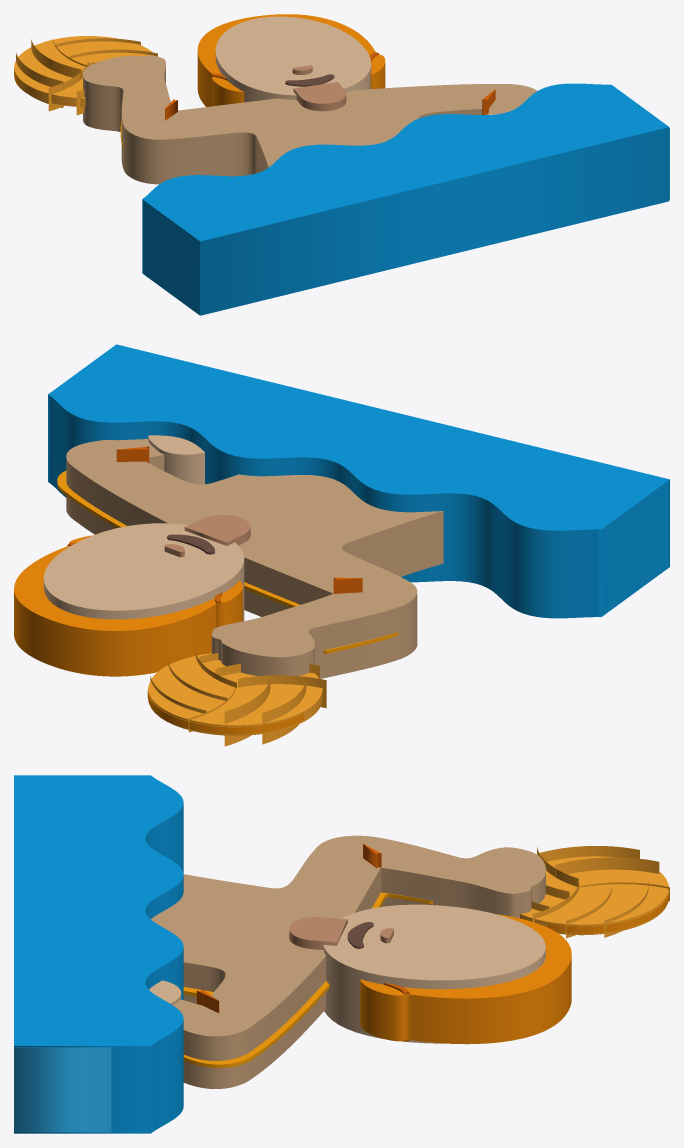
File: emoji_u1f93d_1f3fc.glb
3 renders of one model, top to bottom at view 1: azimuth 30°, elevation 25°; view 2: azimuth 150°, elevation 25°; view 3: azimuth 270°, elevation 25°, orthographic. The views are drawn at different scales.
Parts seen in each view (by area): view 1: emoji_u1f93d_1f3fc; view 2: emoji_u1f93d_1f3fc; view 3: emoji_u1f93d_1f3fc.
Part boxes in pixels (box(x1,y1,x2,y2)): emoji_u1f93d_1f3fc: box(14, 14, 669, 315); emoji_u1f93d_1f3fc: box(14, 344, 669, 746); emoji_u1f93d_1f3fc: box(14, 775, 669, 1133).
Size of the model in its own units: 0.0331 by 0.005 by 0.0339.
